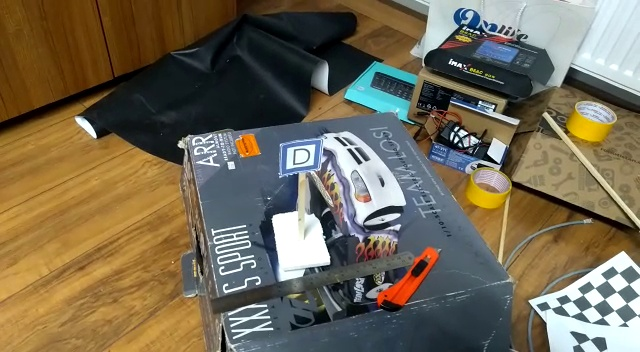durak: (276, 132, 325, 180)
